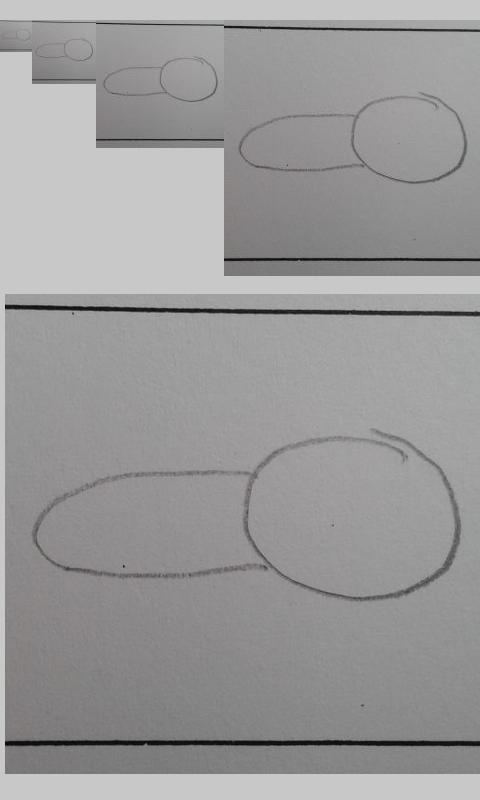switch: (30, 428, 462, 602), (238, 90, 468, 185), (103, 56, 220, 103), (35, 38, 94, 62), (1, 28, 31, 42)
